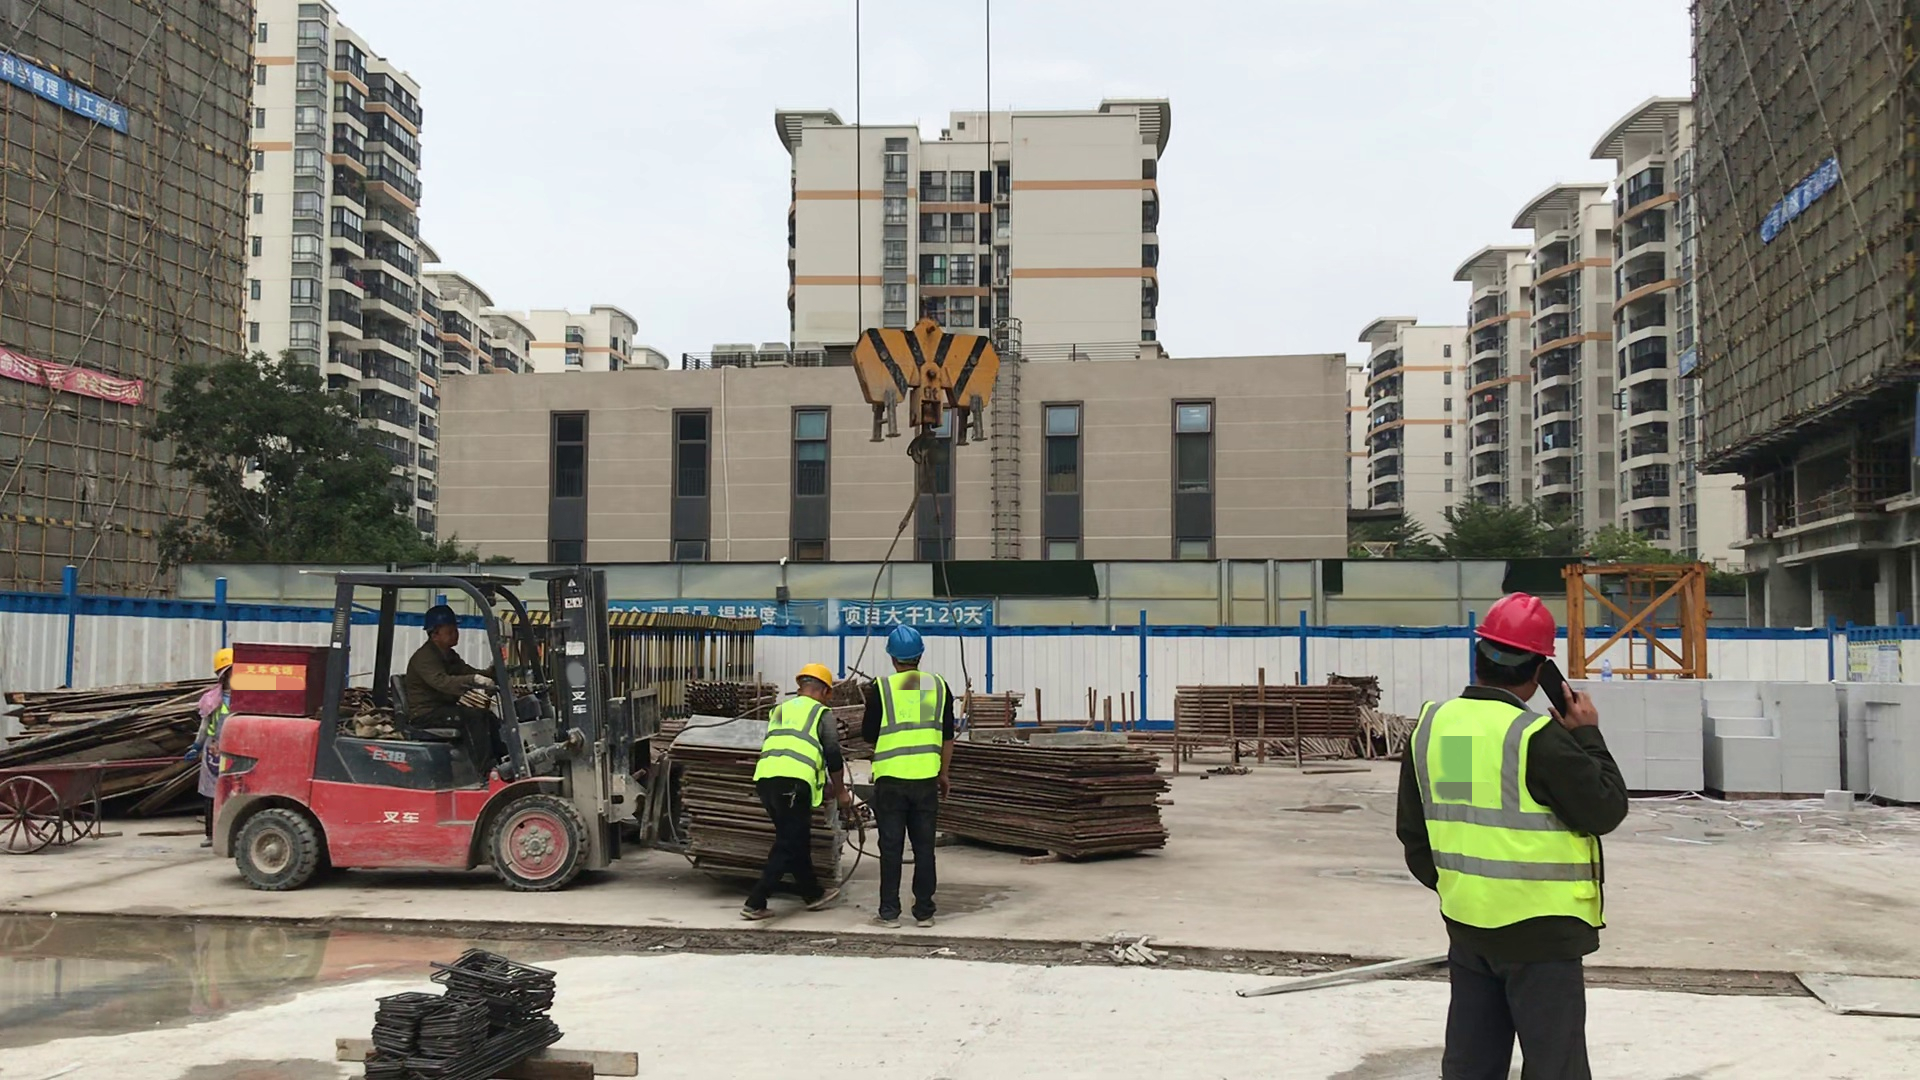board: (921, 713, 1182, 861), (648, 708, 848, 879)
brick: (1579, 670, 1920, 815)
handcart: (7, 733, 169, 857)
helmet: (1474, 588, 1591, 674), (877, 623, 935, 662), (793, 651, 840, 690), (422, 598, 462, 632)
hook: (847, 288, 1007, 446)
person: (1434, 582, 1611, 1080), (869, 628, 965, 937), (742, 667, 839, 921), (408, 608, 503, 765)
scaffold: (1178, 678, 1357, 740), (684, 663, 770, 715)
slogan: (683, 578, 1002, 631), (1, 51, 125, 132), (1, 344, 142, 405)
vest: (1416, 702, 1604, 931), (873, 675, 953, 780), (769, 697, 831, 780)
